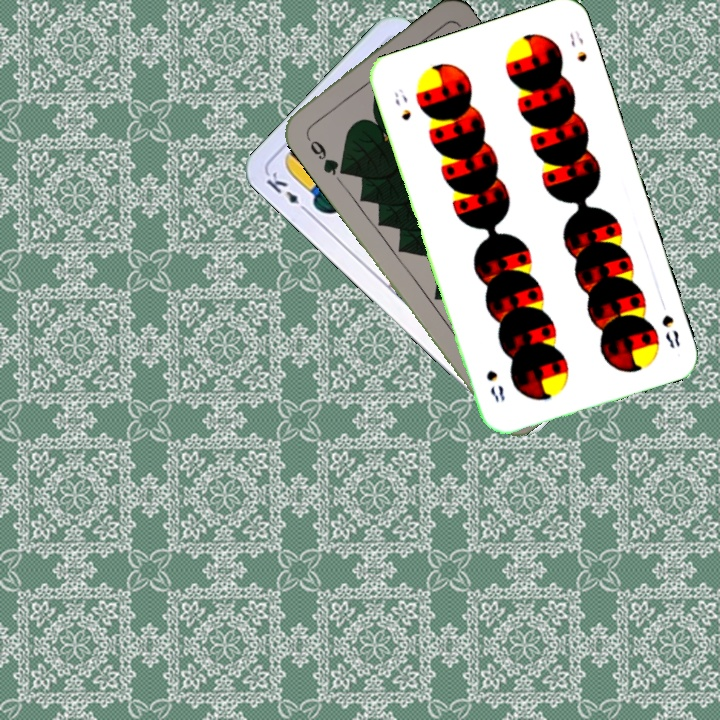EK: (261, 167, 312, 216)
G9: (301, 130, 346, 178)
S8: (658, 311, 683, 351), (390, 84, 414, 123)
